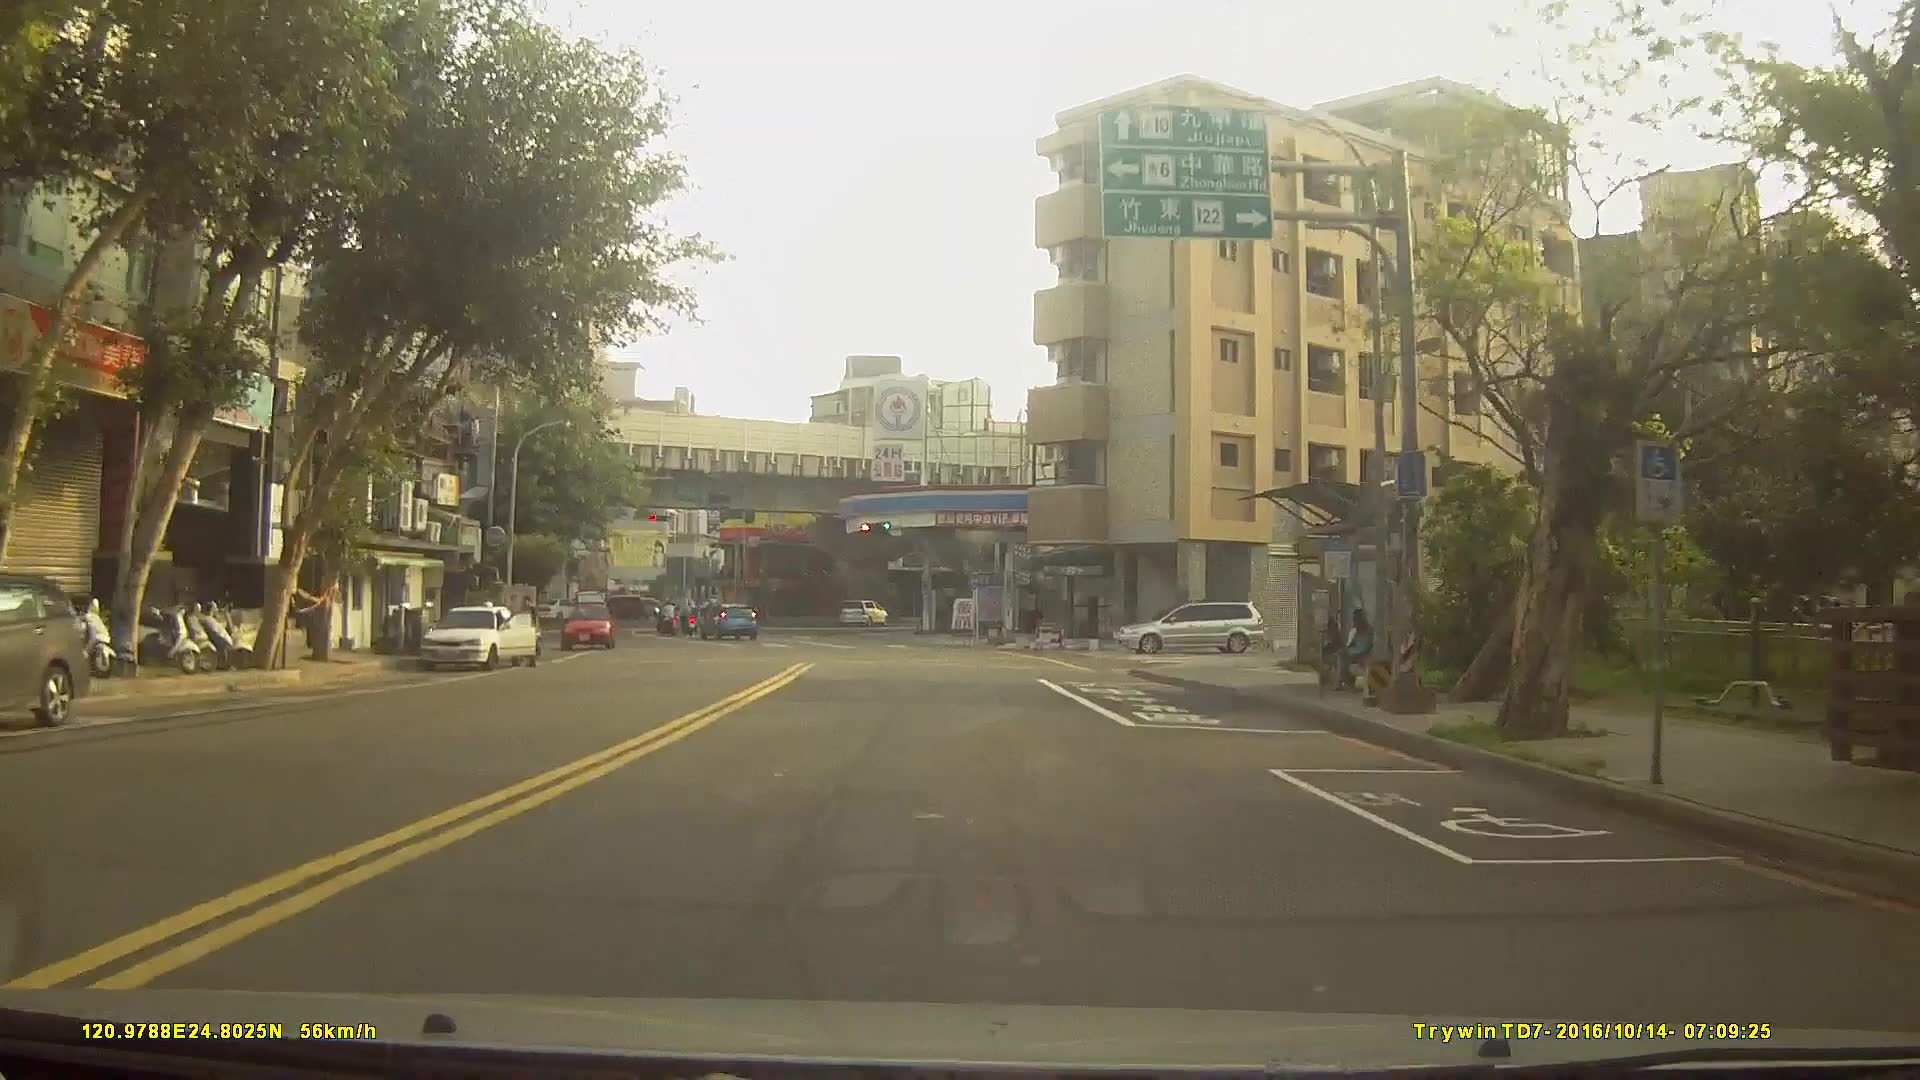pedestrian: (1341, 602, 1380, 706)
rider: (654, 598, 680, 638)
vehicle: (0, 571, 91, 725), (417, 600, 537, 670), (1118, 598, 1265, 654), (560, 599, 617, 649), (695, 598, 758, 639), (589, 592, 646, 622), (840, 598, 889, 627)
